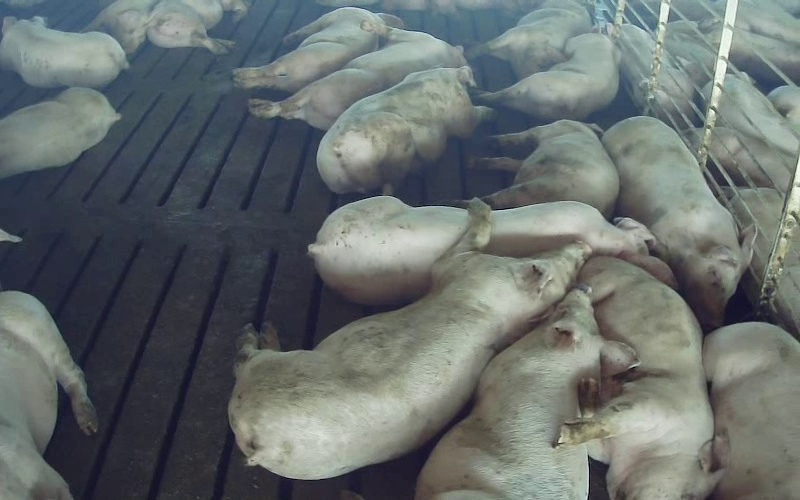pig: (416, 286, 638, 499), (558, 257, 727, 499), (602, 116, 755, 328), (249, 22, 465, 130), (318, 66, 492, 194), (703, 323, 799, 499), (469, 120, 618, 218), (233, 7, 402, 92), (479, 33, 619, 119), (0, 87, 120, 177), (470, 0, 591, 79), (0, 16, 128, 87)
